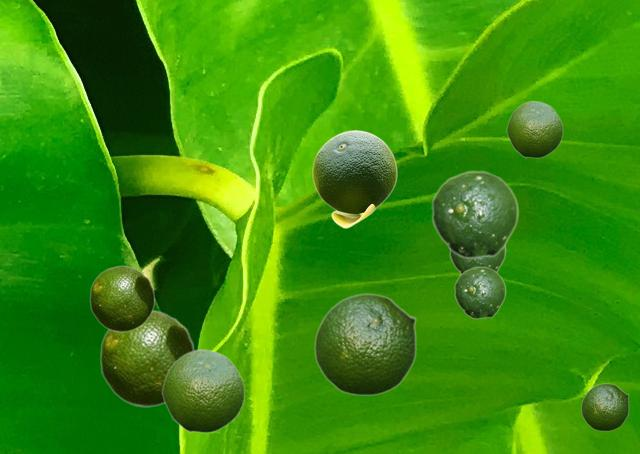calamansi: (314, 293, 416, 395), (99, 309, 194, 406), (312, 130, 396, 227), (431, 170, 518, 258), (161, 348, 244, 432), (89, 265, 154, 331), (506, 100, 562, 157), (454, 266, 505, 318), (581, 383, 628, 430), (449, 248, 505, 273)
